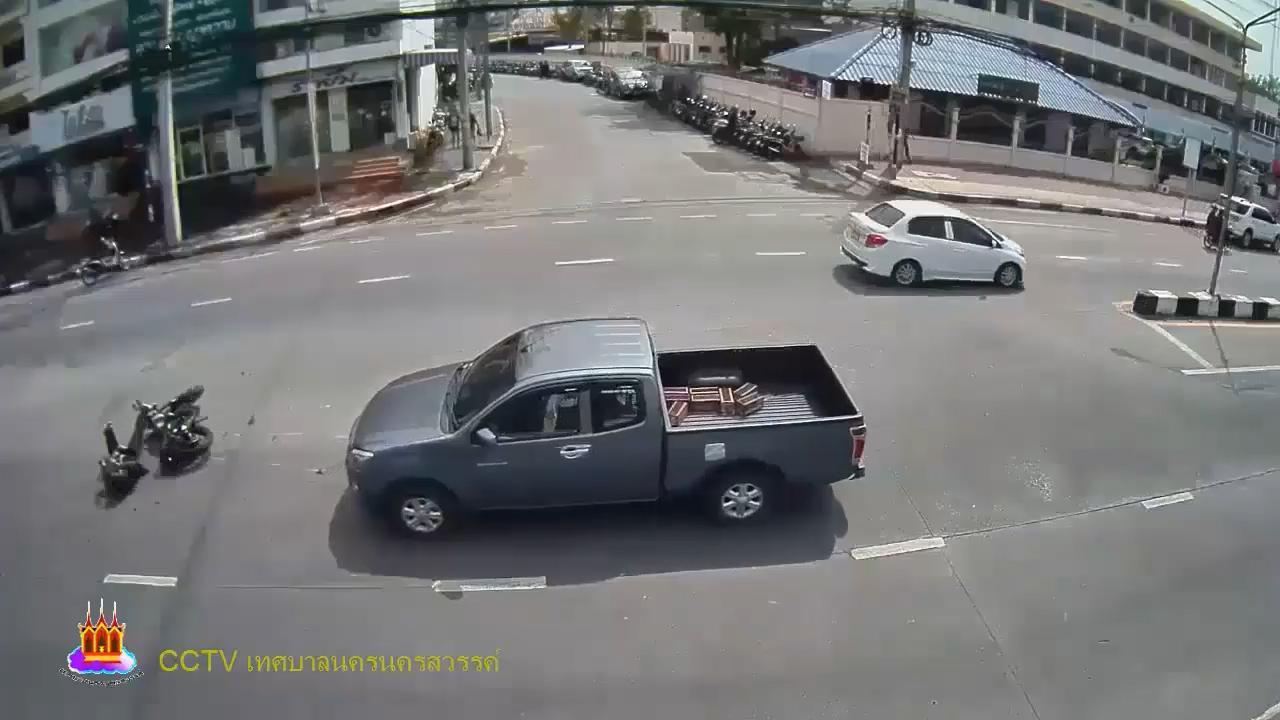accident: (100, 405, 155, 504)
